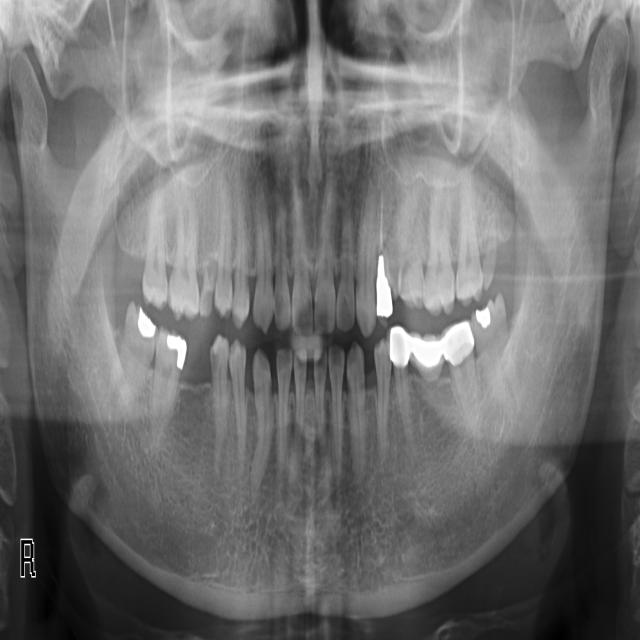tooth: (425, 187, 455, 312), (313, 178, 336, 333), (442, 321, 476, 423), (251, 186, 275, 329), (456, 175, 483, 301), (290, 177, 312, 329), (397, 192, 426, 307), (169, 209, 199, 318), (251, 348, 273, 496), (356, 185, 377, 332), (150, 330, 185, 414), (142, 196, 168, 307), (336, 187, 356, 330), (346, 344, 367, 471), (273, 195, 292, 328), (211, 337, 231, 450), (215, 204, 232, 318), (233, 210, 250, 324), (230, 341, 247, 452), (376, 340, 391, 457), (276, 348, 291, 461), (330, 345, 343, 471), (315, 347, 326, 436), (376, 257, 391, 320), (295, 353, 306, 428)
